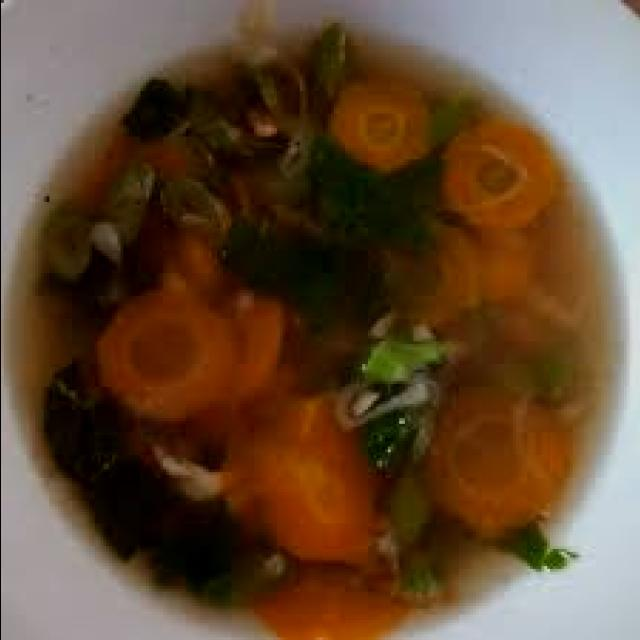sop: (34, 26, 600, 640)
